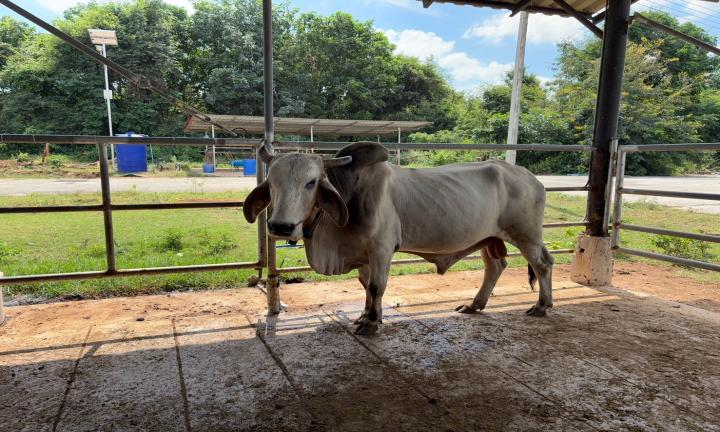Brahman: (243, 142, 553, 334)
